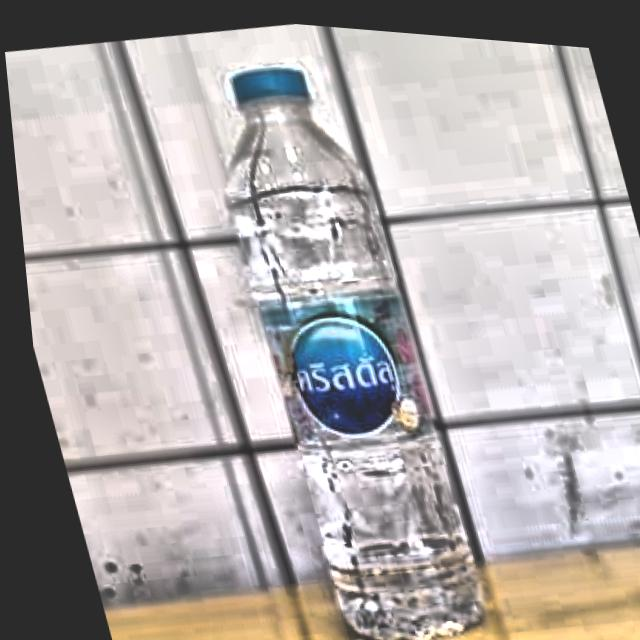Bottles: (170, 26, 526, 640)
